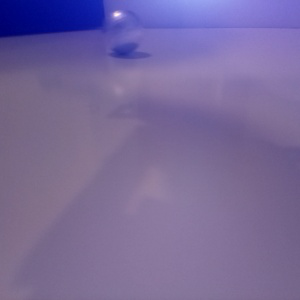alive_ball: (101, 9, 143, 54)
